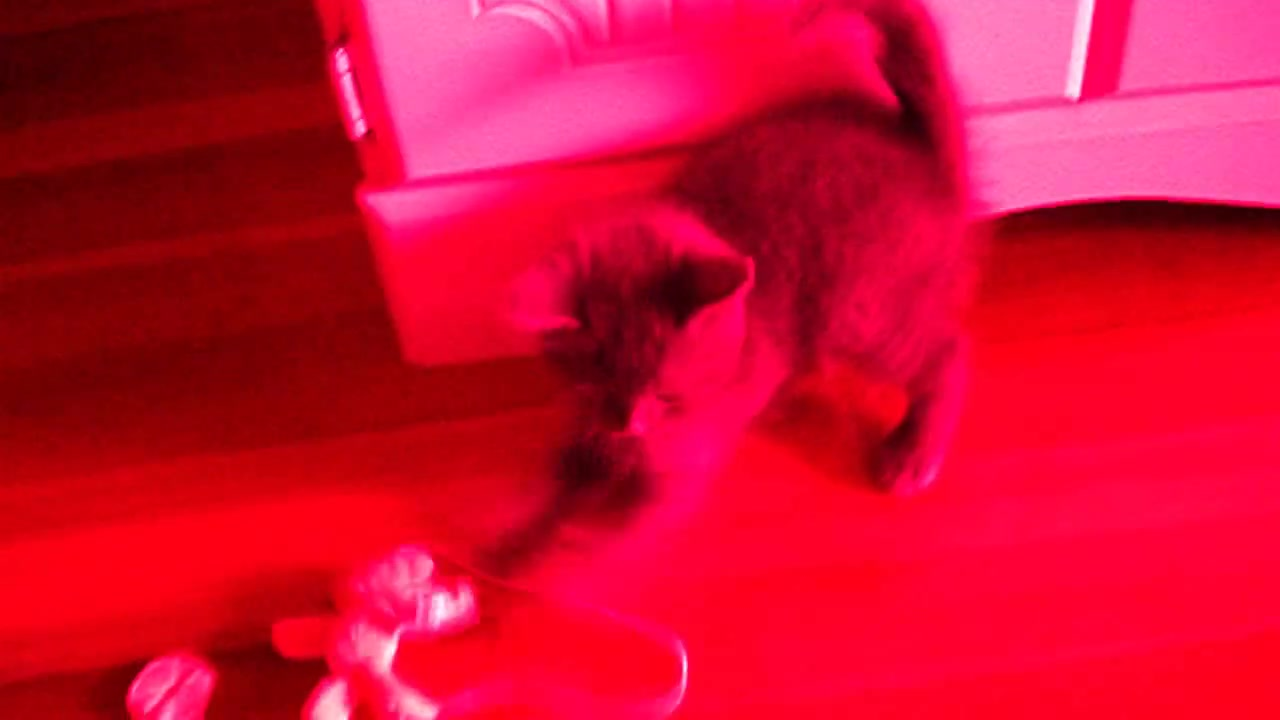cat: (476, 4, 986, 586)
